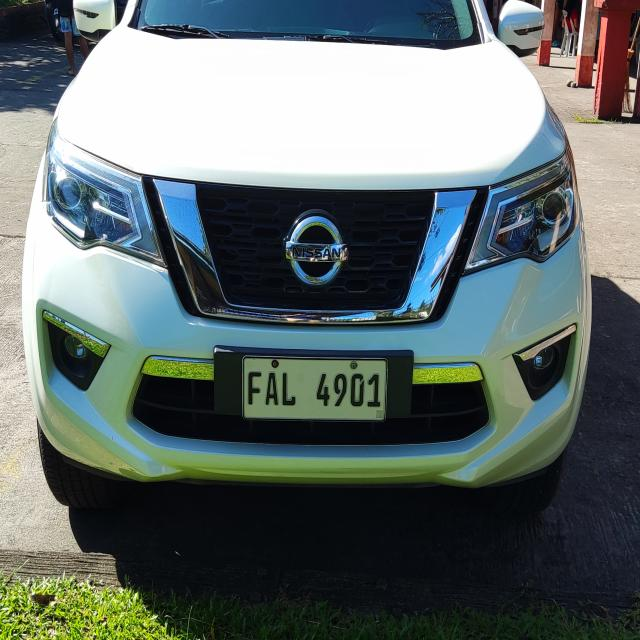plate: (239, 353, 390, 425)
